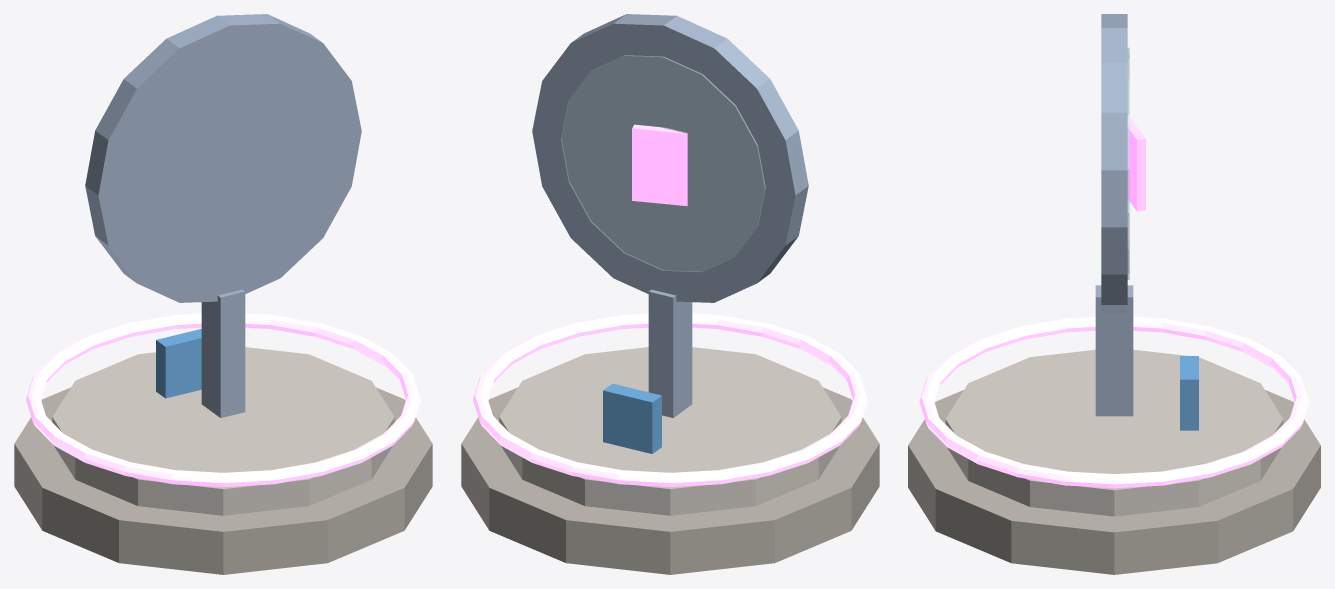
File: mirror.glb
3 renders of one model, left to right at view 1: azimuth 30°, elevation 25°; view 2: azimuth 150°, elevation 25°; view 3: azimuth 270°, elevation 25°, orthographic.
Visible parts, largest first — view 1: mirror; view 2: mirror; view 3: mirror.
Boxes of the visible parts, x1,y1,x2,y2 form: mirror: (14, 14, 432, 574); mirror: (461, 14, 879, 574); mirror: (908, 14, 1320, 574).
Bounding box in the file's own units: 2.2 × 2.7 × 2.2.
